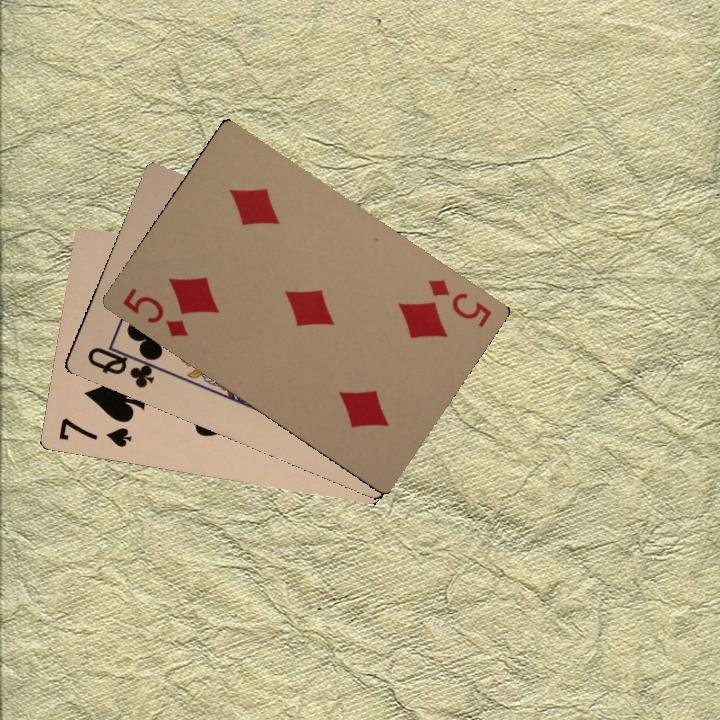5d: (118, 283, 191, 340), (423, 274, 495, 330)
7s: (54, 413, 134, 450)
Qc: (83, 341, 163, 391)
